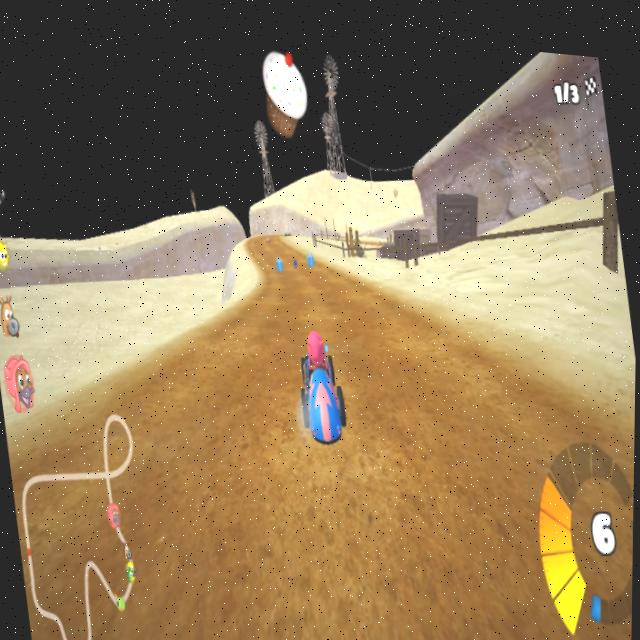bonus: (273, 248, 288, 269), (306, 242, 316, 262)
nitro: (291, 246, 300, 262)
off_track: (397, 105, 631, 351), (22, 131, 247, 337)
player_kart: (290, 323, 358, 446)
track: (273, 267, 352, 322)
